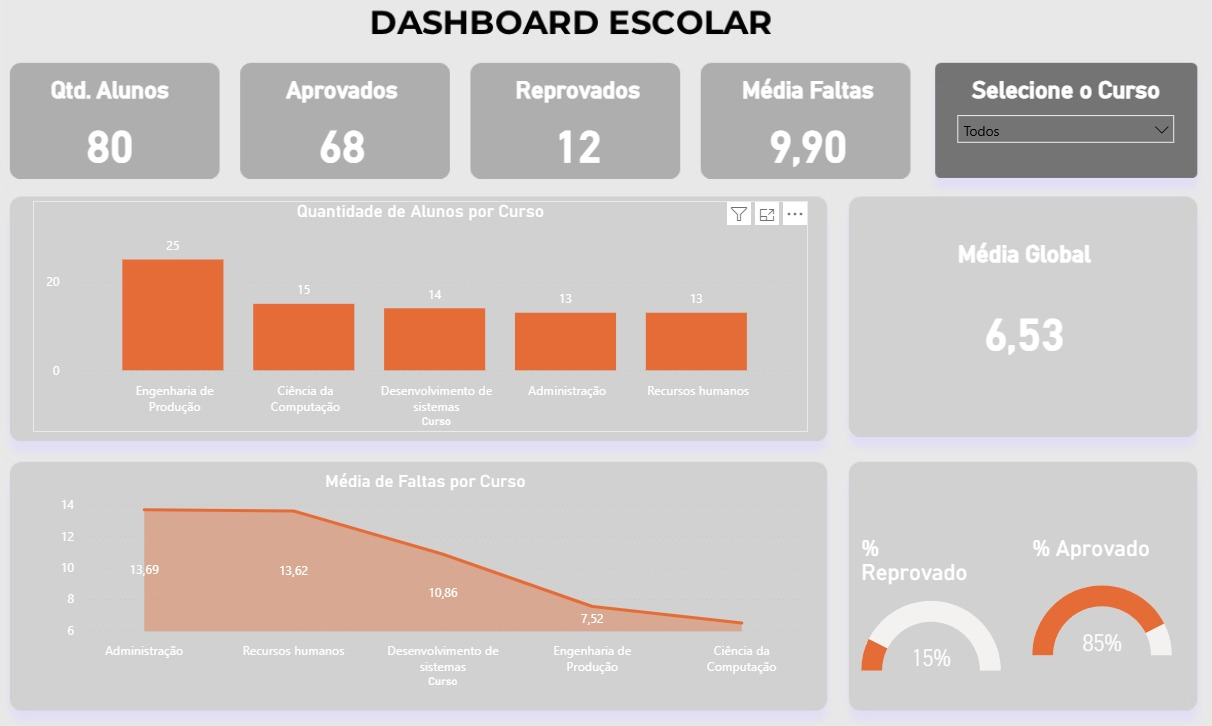

What the dashboard file says about the page in this screenshot:
{"tool":"powerbi","page":{"name":"Página 1","canvas":[1280,720],"ordinal":0},"visuals":[{"type":"card","title":"Qtd. Alunos","fields":{"Values":["Sheet1.Quant.Alunos"]},"box":[123.5,79.8,149.8,100.2],"z":0},{"type":"card","title":"Aprovados","fields":{"Values":["Sheet1.Alunos Aprovados"]},"box":[349.2,79.8,149.8,100.2],"z":1000},{"type":"card","title":"Reprovados","fields":{"Values":["Sheet1.Alunos Reprovados"]},"box":[570,79.8,167.3,100.2],"z":2000},{"type":"card","title":"Média Faltas","fields":{"Values":["Sheet1.Média Faltas"]},"box":[793.7,79.8,167.3,100.2],"z":3000},{"type":"slicer","title":"Selecione o  Curso","fields":{"Values":["Sheet1.Curso"]},"box":[1012.5,79.8,231.5,71],"z":4000},{"type":"card","title":"Média Global","fields":{"Values":["Sheet1.Média Global"]},"box":[1012.5,239.3,150.8,149.8],"z":5000},{"type":"columnChart","title":"Quantidade de Alunos por Curso","fields":{"Category":["Sheet1.Curso"],"Y":["Sheet1.Quant.Alunos"]},"box":[123.5,201.3,753.8,224.7],"z":6000},{"type":"stackedAreaChart","fields":{"Category":["Sheet1.Curso"],"Y":["Avg(Sheet1.Faltas)"]},"box":[123.5,464,763.5,215],"z":7000},{"type":"gauge","fields":{"Y":["Sheet1.% Aprovado"]},"box":[1090.3,526.2,145.9,142],"z":8000},{"type":"gauge","fields":{"Y":["Sheet1.% Reprovado"]},"box":[924,526.2,145.9,142],"z":9000}]}

Visuals, with their boxes on the page's 1280x720 design canvas (x1, y1, x2, y2). These are canvas units, not pixel positions in the 1212x726 screenshot, which may show the page scaled, cropped or inside an application window:
"Qtd. Alunos" card: 124 80 273 180
"Aprovados" card: 349 80 499 180
"Reprovados" card: 570 80 737 180
"Média Faltas" card: 794 80 961 180
"Selecione o  Curso" slicer: 1012 80 1244 151
"Média Global" card: 1012 239 1163 389
"Quantidade de Alunos por Curso" columnChart: 124 201 877 426
stackedAreaChart - Sheet1.Curso x Avg(Sheet1.Faltas): 124 464 887 679
gauge - Sheet1.% Aprovado: 1090 526 1236 668
gauge - Sheet1.% Reprovado: 924 526 1070 668
